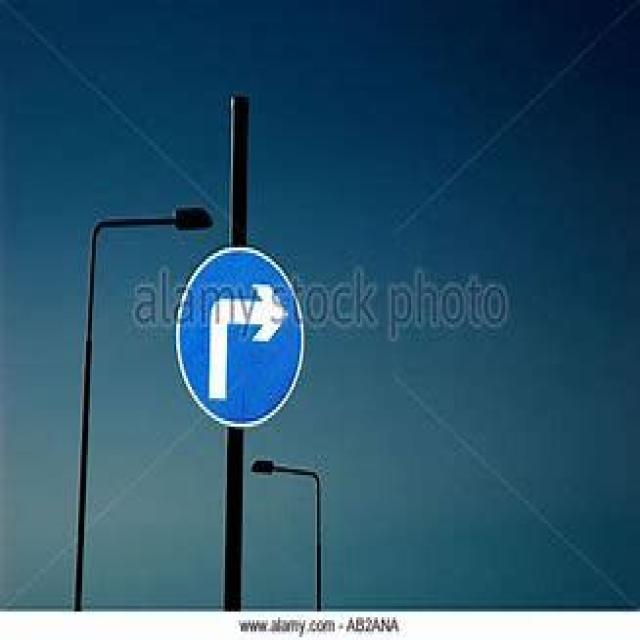COMPULSARY_TURN_RIGHT_AHEAD: (175, 246, 302, 430)
